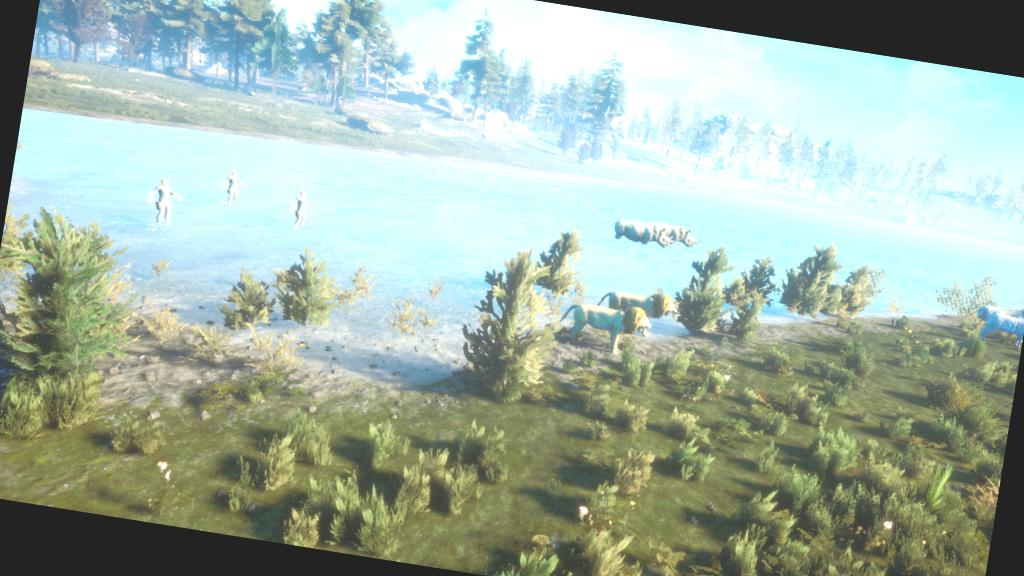human: (142, 175, 186, 229), (285, 186, 317, 234), (218, 164, 250, 210)
lion: (556, 293, 656, 362), (596, 282, 685, 333)
rhinoceros: (608, 216, 678, 254), (641, 219, 706, 251)
zebra: (979, 308, 1023, 353), (973, 298, 1023, 332)
